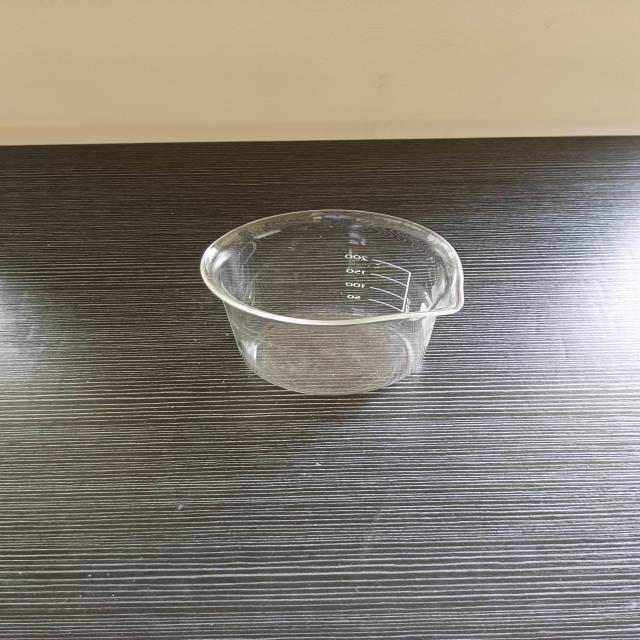beaker: (190, 202, 472, 400)
